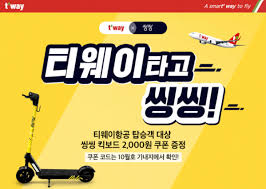kick_body: (41, 169, 76, 179)
kick_handler: (21, 91, 40, 105)
kick_neck: (25, 108, 36, 161)
kick_wheel: (16, 166, 33, 183), (78, 165, 94, 182)
